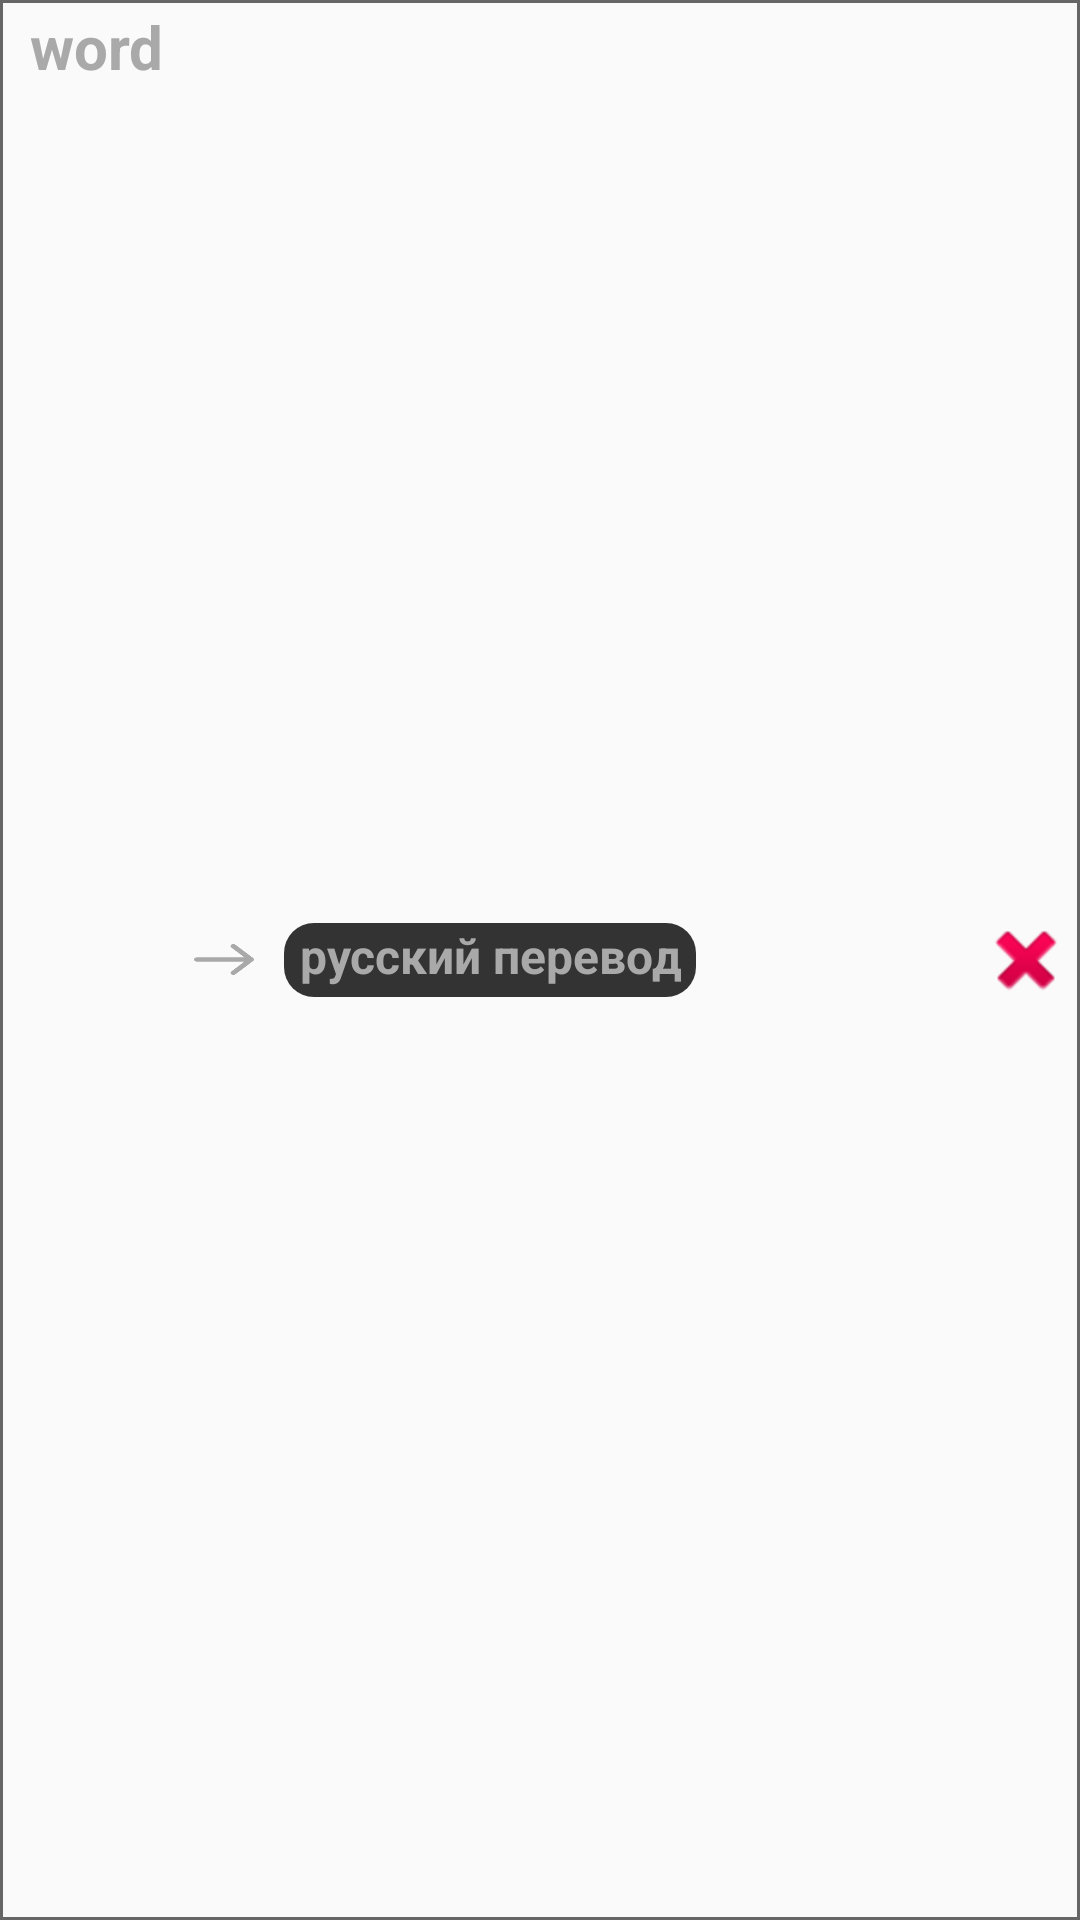

Locate icon controls on the screen. Image size 1080 x 1920, boxes as [x1, y1, x2, y2].
arrow right: [194, 944, 254, 975]
delete: [995, 931, 1057, 990]
